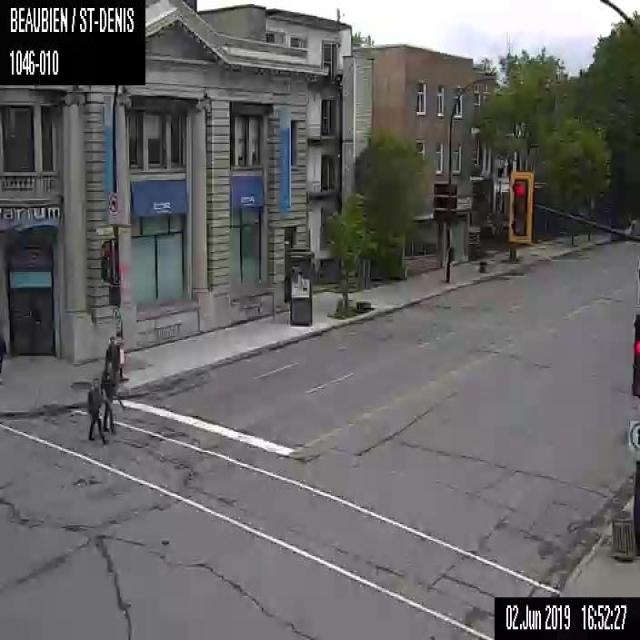pedestrian: (86, 377, 108, 443), (100, 369, 117, 433), (104, 335, 119, 392)
